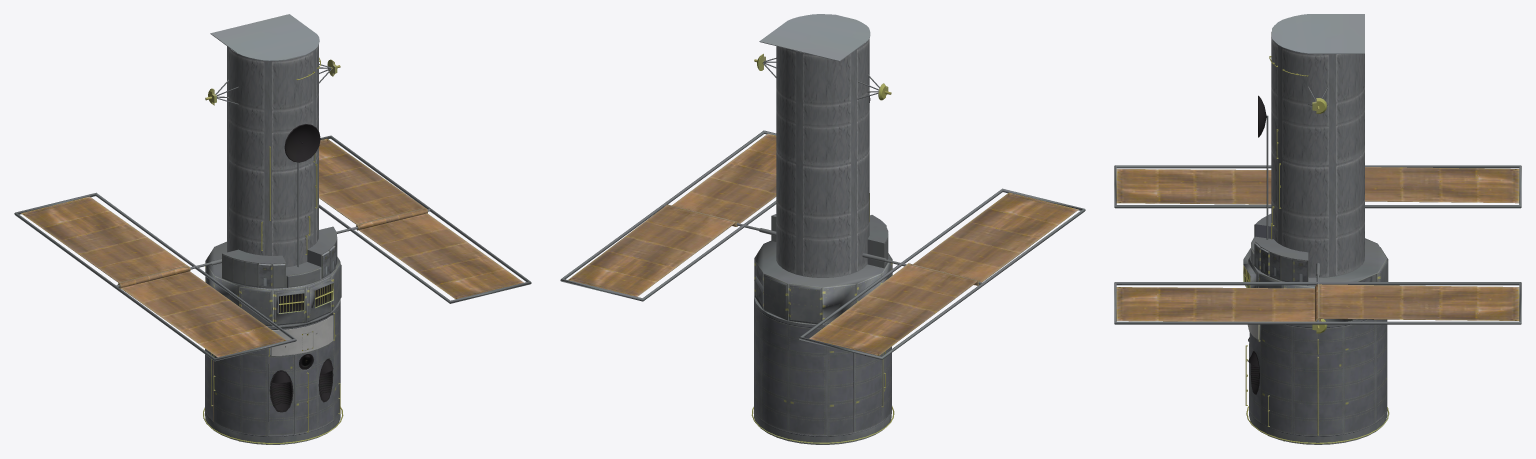
File: hubble.glb
3 views of the same model, side by side, from view 1: azimuth 30°, elevation 25°; view 2: azimuth 150°, elevation 25°; view 3: azimuth 270°, elevation 25° (orthographic).
Parts seen in each view (by area): view 1: hst; view 2: hst; view 3: hst.
Boxes of the visible parts, left/top/right/bottom form: hst: left=14, top=14, right=531, bottom=444; hst: left=560, top=14, right=1085, bottom=444; hst: left=1114, top=14, right=1521, bottom=444.
Bounding box in the file's own units: 458 × 525 × 501.
Materials: 5 (5 with a texture image).
